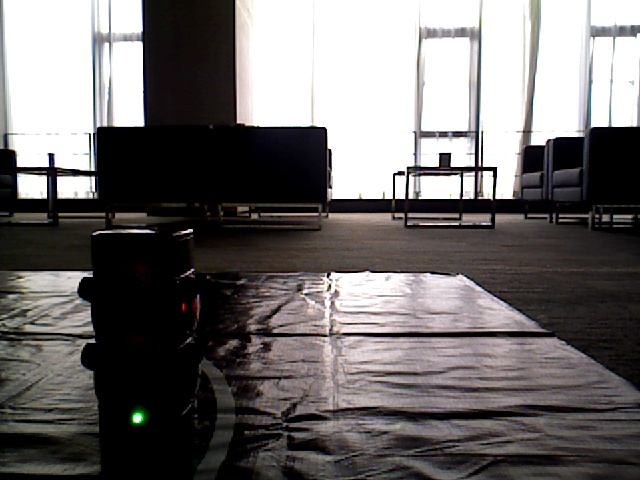green: (99, 232, 175, 427)
